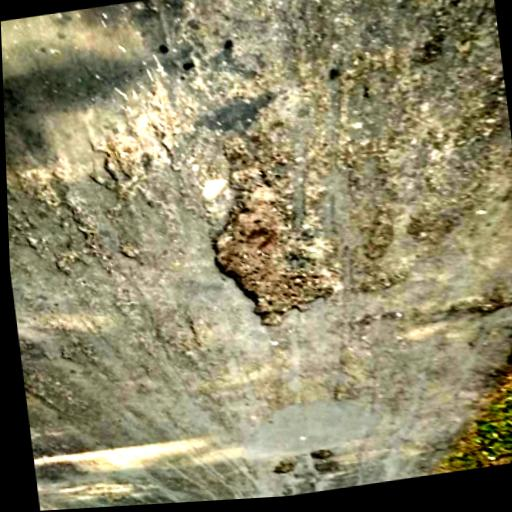pothole: (201, 163, 344, 334), (272, 454, 299, 479), (311, 459, 341, 477), (309, 448, 335, 461)
